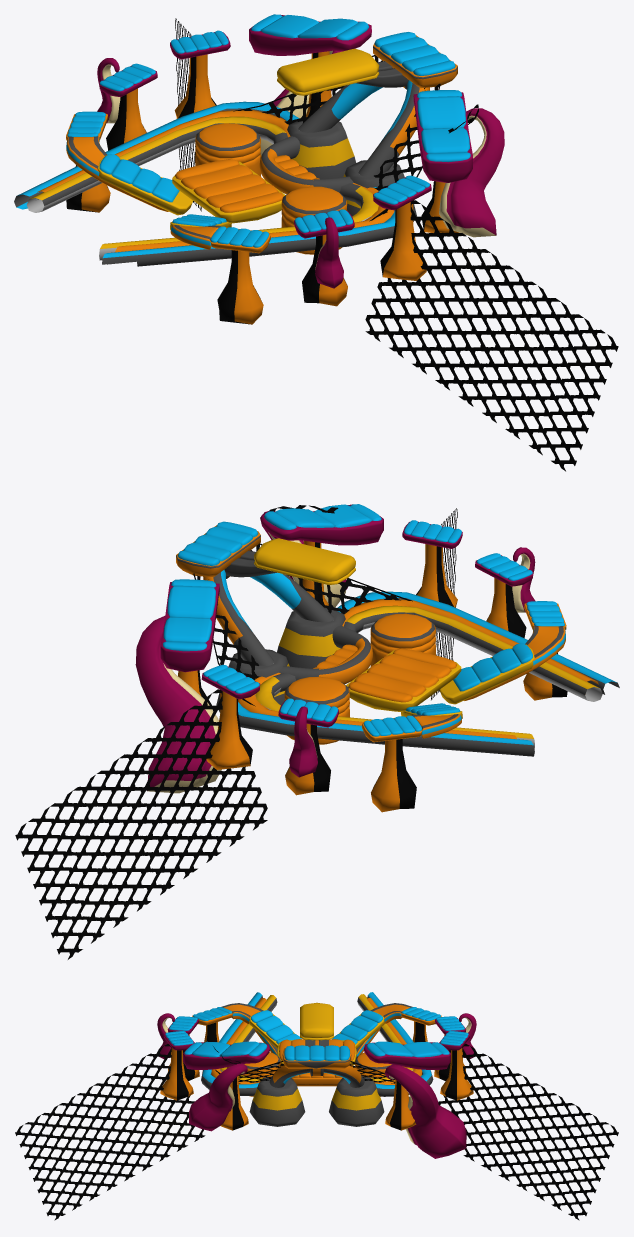
Rendered from OctoFrontalPart_tutorial.fbx.
3 renders of one model, top to bottom at view 1: azimuth 30°, elevation 25°; view 2: azimuth 150°, elevation 25°; view 3: azimuth 270°, elevation 25°, orthographic. The views are drawn at different scales.
Parts seen in each view (by area): view 1: pPlane4, MainEntrance_center, Floor_right, Floor_left, CenteredFloater, group9_pCube117, polySurface2510, group8_pCube112, PlatformForCannon_center, InflatablePlatform_center, Ramp_right, RoundFloater_Right (+23 smaller); view 2: pPlane15, MainEntrance_center, Floor_left, polySurface2577, Floor_right, CenteredFloater, group8_pCube112, group9_pCube117, PlatformForCannon_center, InflatablePlatform_center, Ramp_left, RoundFloater_left (+21 smaller); view 3: pPlane4, pPlane15, MainEntrance_center, polySurface2577, group8_pCube112, group9_pCube117, polySurface2510, Floor_left, InflatablePlatform_center, Floor_right, PlatformForCannon_center, Ramp_left (+20 smaller).
Part boxes in pixels (x1,y1,x2,y2): pPlane4: (365,200,618,471); MainEntrance_center: (287,80,429,221); Floor_right: (14,101,298,212); Floor_left: (99,183,413,266); CenteredFloater: (172,159,285,223); group9_pCube117: (413,90,472,182); polySurface2510: (439,108,504,237); group8_pCube112: (249,14,371,55); PlatformForCannon_center: (277,48,379,95); InflatablePlatform_center: (373,32,457,88); Ramp_right: (97,154,192,215); RoundFloater_Right: (195,123,260,176); pPlane15: (15,689,267,959); MainEntrance_center: (203,570,345,705); Floor_left: (337,591,619,701); polySurface2577: (135,616,221,793); Floor_right: (218,672,534,756); CenteredFloater: (346,648,461,712); group8_pCube112: (160,579,219,672); group9_pCube117: (261,504,383,545); PlatformForCannon_center: (254,538,355,585); InflatablePlatform_center: (176,521,260,577); Ramp_left: (439,643,534,704); RoundFloater_left: (370,613,435,666); pPlane4: (15,1044,205,1220); pPlane15: (438,1044,618,1220); MainEntrance_center: (249,1064,384,1126); polySurface2577: (385,1064,466,1158); group8_pCube112: (364,1041,450,1069); group9_pCube117: (183,1041,269,1069); polySurface2510: (189,1063,247,1131); Floor_left: (201,992,277,1095); InflatablePlatform_center: (282,1045,351,1068); Floor_right: (357,992,433,1096); PlatformForCannon_center: (300,1002,333,1040); Ramp_left: (249,1010,301,1048).
Bounding box in the file's own units: 3899 × 2750 × 7889.
